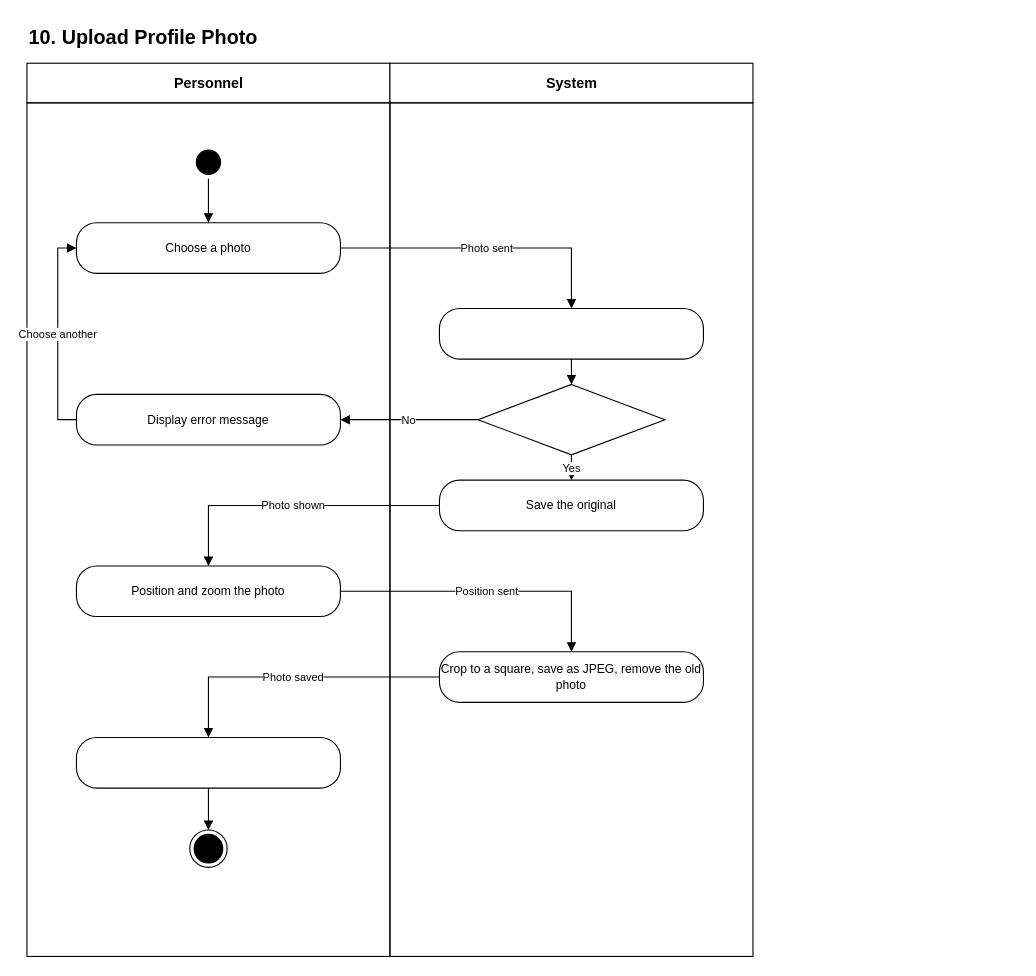
Image size: 1036x976. Some labels were removed from this diagram. The shapes that lost their labels are listed below. From the top down, each one's box as (x1, y1, x2, y2) in pixels, then its label:
(438, 307, 703, 359): Check image type and size
(477, 383, 665, 455): Valid image?
(75, 736, 340, 788): New photo shown on the profile
